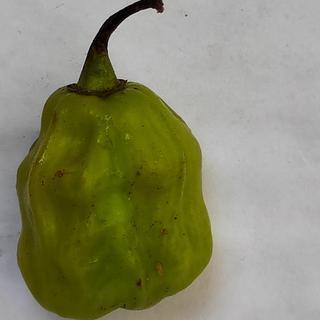Fly-bites: (46, 162, 69, 187), (130, 275, 150, 293), (155, 225, 176, 241), (130, 168, 149, 181)
